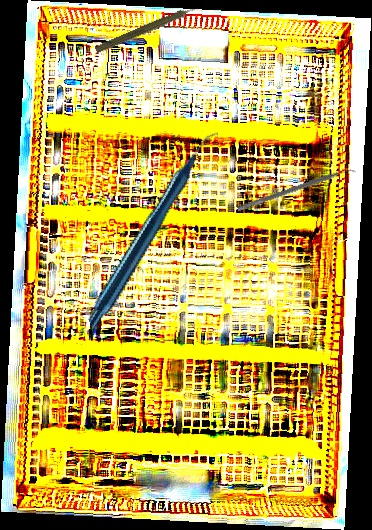Handpiece: (41, 131, 269, 331), (93, 0, 205, 58)
Spatula Surgical: (236, 164, 358, 217)
